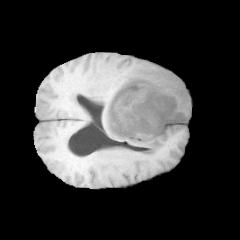glioma: (103, 65, 191, 149)
